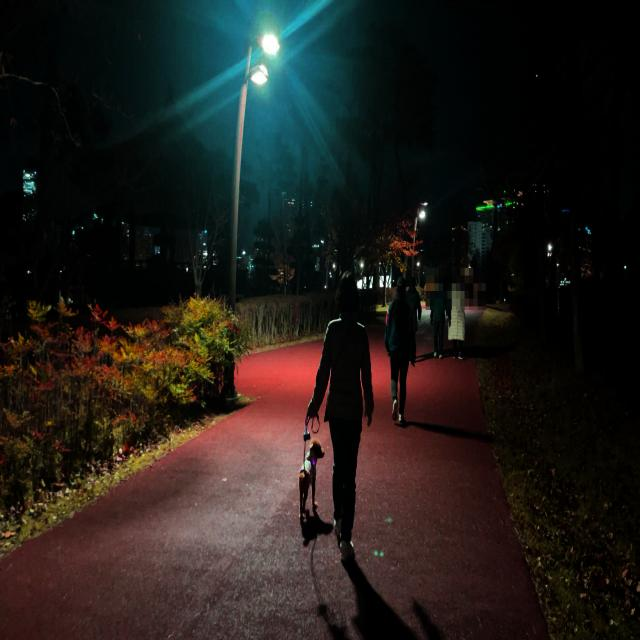Leashed_Dog: (298, 398, 344, 523)
